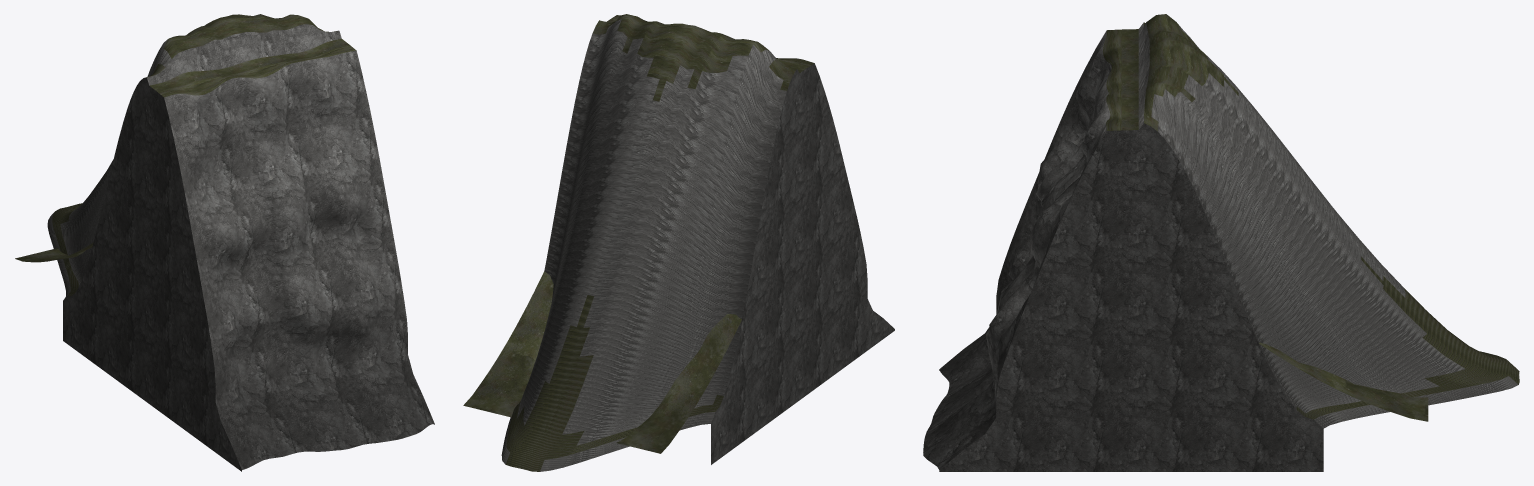
The model's file is seacliff_straight6b_h8_v5_summer.glb.
3 renders of one model, left to right at view 1: azimuth 30°, elevation 25°; view 2: azimuth 150°, elevation 25°; view 3: azimuth 270°, elevation 25°, orthographic. The views are drawn at different scales.
Visible parts, largest first — view 1: seacliff_straight6b_h8; view 2: seacliff_straight6b_h8; view 3: seacliff_straight6b_h8.
Part boxes in pixels (left/top/right/bottom): seacliff_straight6b_h8: left=15, top=14, right=434, bottom=471; seacliff_straight6b_h8: left=463, top=14, right=894, bottom=471; seacliff_straight6b_h8: left=923, top=14, right=1519, bottom=471.
Bounding box in the file's own units: 6 × 10.47 × 14.99.
Materials: 2 (2 with a texture image).
